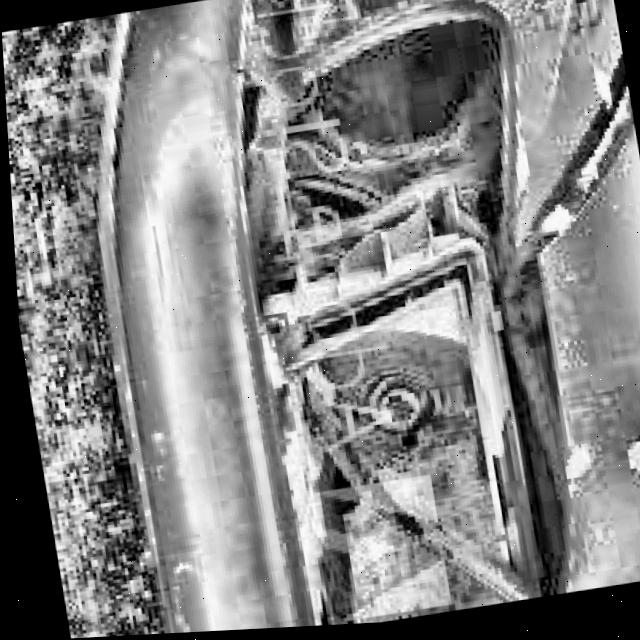head_lamp: (234, 28, 576, 628)
